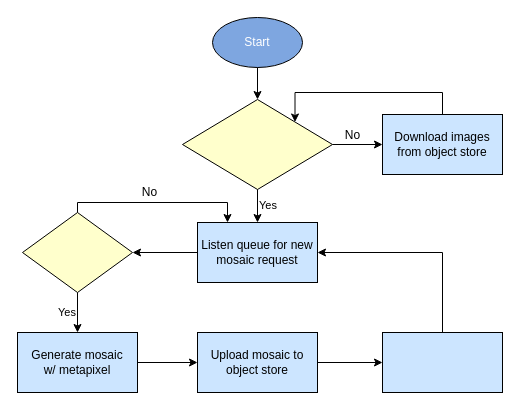
The diagram is 520 pixels wide and 410 high, and some of its shapes have lost their labels. The box of each missing label's shape, as (x1, y1, x2, y2) in pixels:
Has enough raw images to generate mosaics?: (182, 98, 332, 190)
New mosaic request?: (22, 212, 132, 292)
Send notification to publisher: (382, 332, 502, 392)
